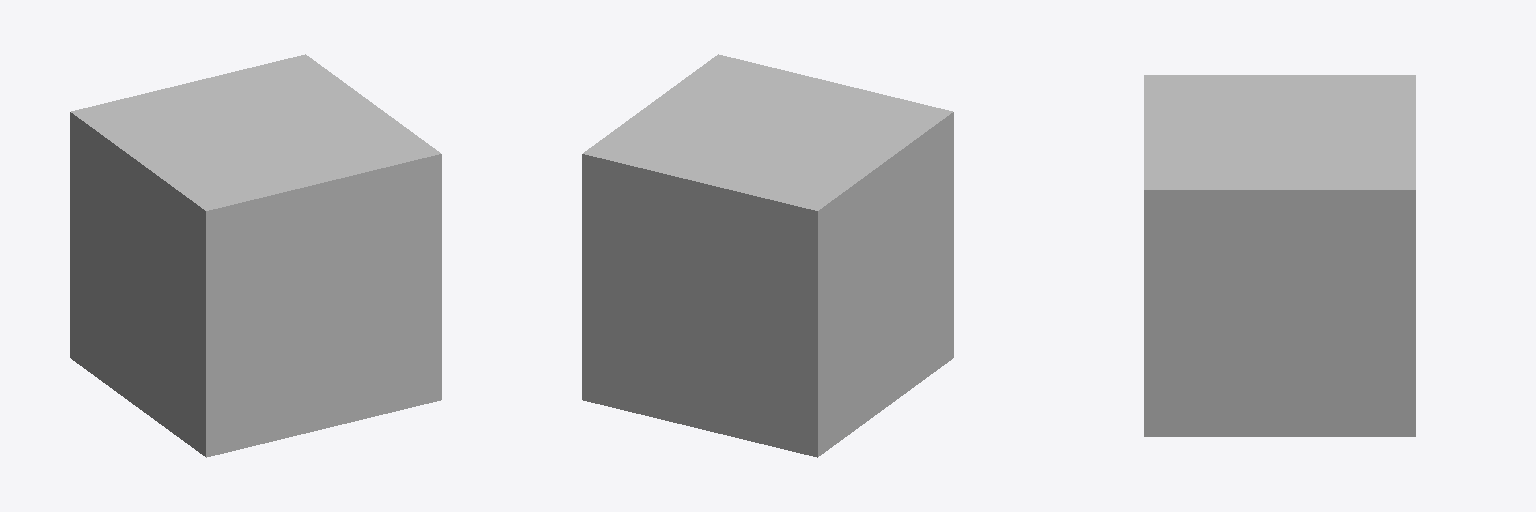
Rendered from cubes_wall2.obj.
The picture shows the model from 3 angles: view 1: azimuth 30°, elevation 25°; view 2: azimuth 150°, elevation 25°; view 3: azimuth 270°, elevation 25°; orthographic projection.
Bounding box in the file's own units: 0.1 × 0.1 × 0.1.